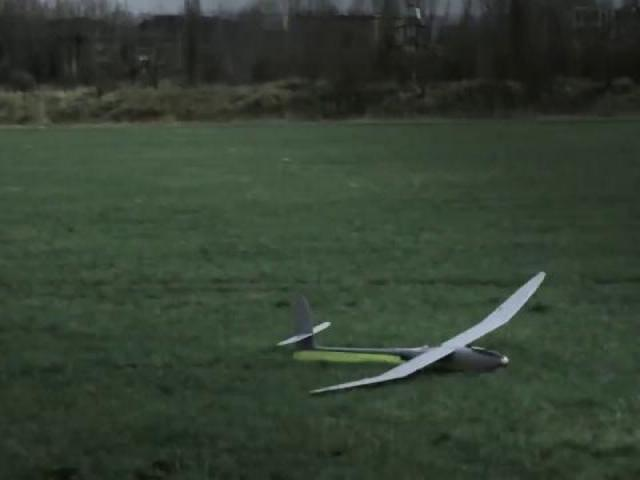flying wing: (280, 272, 556, 404)
